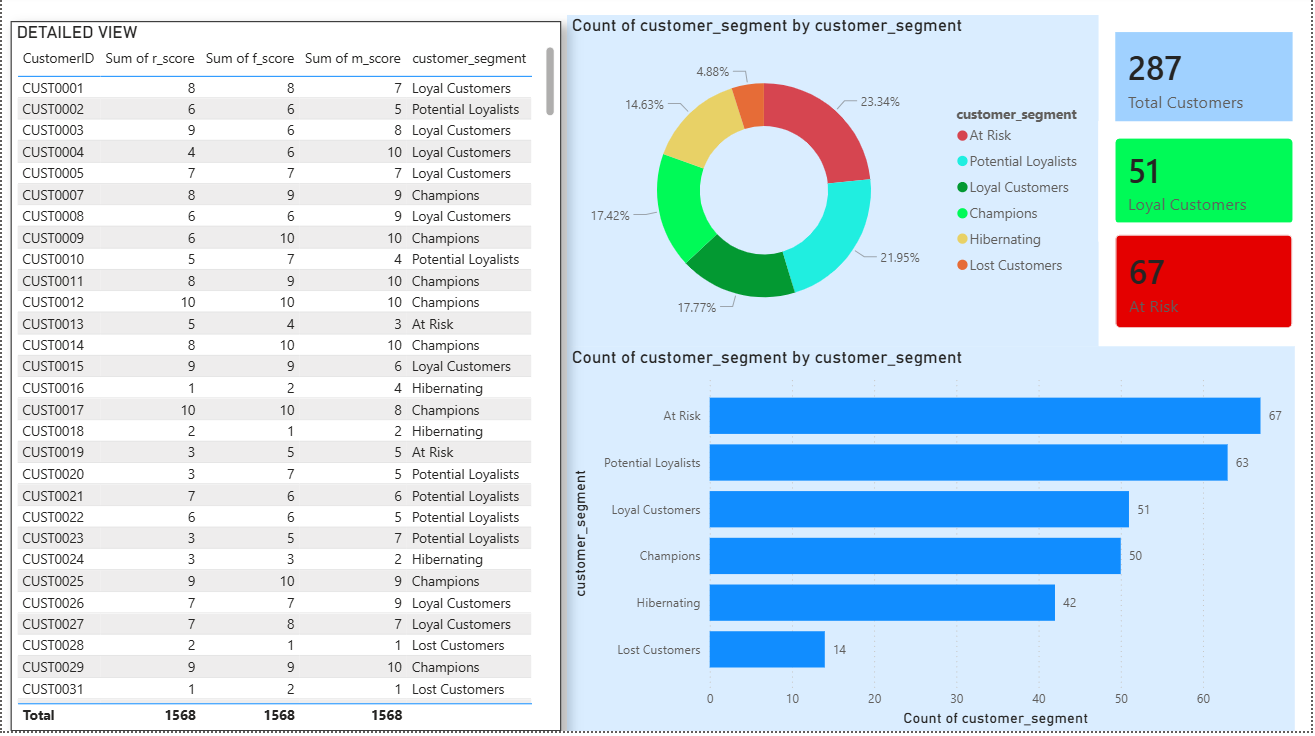

The dashboard page shown, as its layout file describes it:
{"tool":"powerbi","page":{"name":"Page 1","canvas":[1280,720],"ordinal":0},"visuals":[{"type":"tableEx","title":"DETAILED VIEW","fields":{"Values":["rfm_segments.CustomerID","Sum(rfm_segments.r_score)","Sum(rfm_segments.f_score)","Sum(rfm_segments.m_score)","rfm_segments.customer_segment"]},"box":[8.6,25.7,538,694.6],"z":0},{"type":"clusteredBarChart","fields":{"Y":["CountNonNull(rfm_segments.customer_segment)"],"Category":["rfm_segments.customer_segment"]},"box":[552.7,343.6,711.7,376.6],"z":1000},{"type":"cardVisual","fields":{"Data":["rfm_segments.Total Customers"]},"box":[1072.4,19.6,207.9,126],"z":2000},{"type":"donutChart","fields":{"Category":["rfm_segments.customer_segment"],"Y":["CountNonNull(rfm_segments.customer_segment)"]},"box":[552.7,19.6,519.7,324.1],"z":3000},{"type":"cardVisual","fields":{"Data":["rfm_segments.Loyal Customers"]},"box":[1072.4,123.5,207.9,117.4],"z":4000},{"type":"cardVisual","fields":{"Data":["rfm_segments.At Risk"]},"box":[1072.4,217.7,207.9,126],"z":4001}]}

Visuals, with their boxes in screenshot pixels (x1, y1, x2, y2), scaled from the page's 1280x720 canvas onto the 1315x736 screenshot:
"DETAILED VIEW" tableEx: x1=9 y1=26 x2=562 y2=735
clusteredBarChart - CountNonNull(rfm_segments.customer_segment) x rfm_segments.customer_segment: x1=568 y1=351 x2=1299 y2=735
cardVisual - rfm_segments.Total Customers: x1=1102 y1=20 x2=1314 y2=149
donutChart - rfm_segments.customer_segment x CountNonNull(rfm_segments.customer_segment): x1=568 y1=20 x2=1102 y2=351
cardVisual - rfm_segments.Loyal Customers: x1=1102 y1=126 x2=1314 y2=246
cardVisual - rfm_segments.At Risk: x1=1102 y1=223 x2=1314 y2=351
